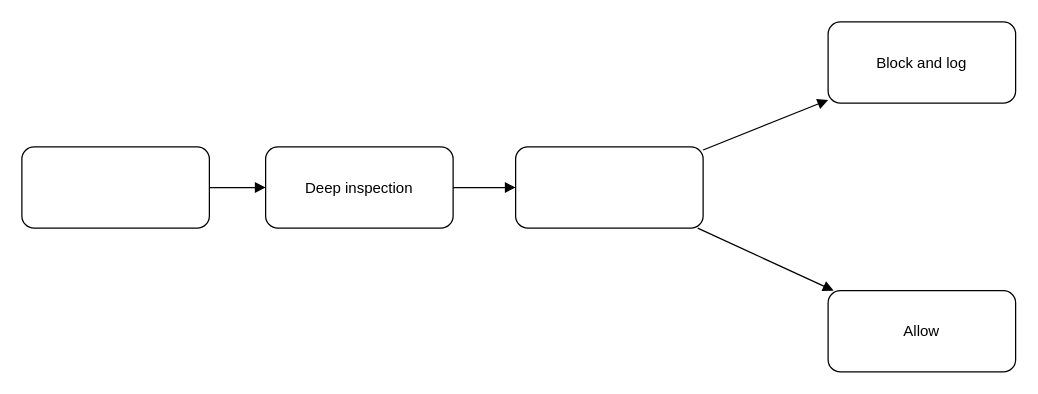
The diagram is 1038 pixels wide and 394 high, and some of its shapes have lost their labels. The shapes that lost their labels are listed below. From the top down, each one's centre as x and y in pixels, then its label:
pixel 115 187: HTTPS upload
pixel 608 187: File type match
